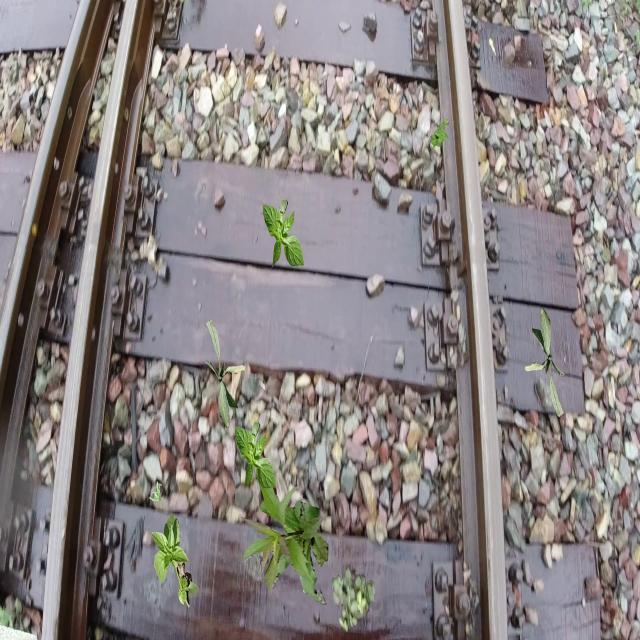Plant: (240, 475, 328, 605), (151, 513, 199, 608), (525, 308, 565, 418), (206, 319, 246, 429), (263, 198, 304, 269), (235, 420, 276, 491), (332, 566, 376, 632), (430, 118, 450, 150), (150, 481, 164, 502)
